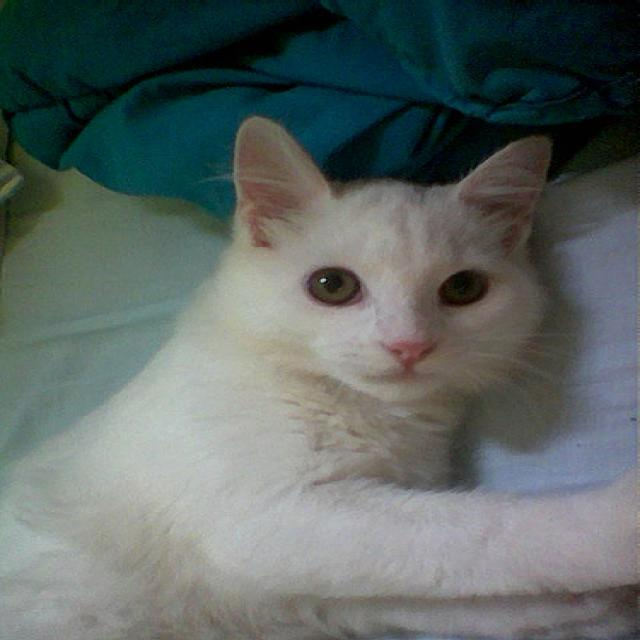cat: (1, 120, 639, 639)
